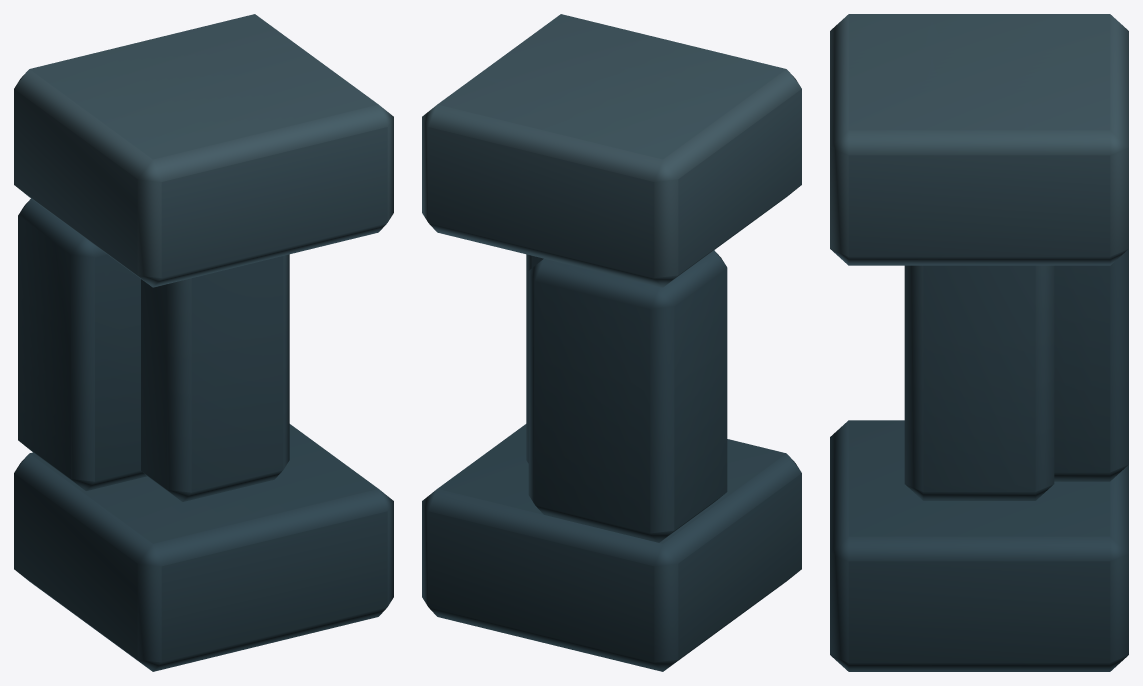
The model's file is wall_pannel_corner_hue_4.fbx.
3 renders of one model, left to right at view 1: azimuth 30°, elevation 25°; view 2: azimuth 150°, elevation 25°; view 3: azimuth 270°, elevation 25°, orthographic. The views are drawn at different scales.
Parts seen in each view (by area): view 1: wall_pannel_corner_hue_4; view 2: wall_pannel_corner_hue_4; view 3: wall_pannel_corner_hue_4.
Boxes of the visible parts, left/top/right/bottom form: wall_pannel_corner_hue_4: left=14, top=14, right=393, bottom=671; wall_pannel_corner_hue_4: left=422, top=14, right=801, bottom=671; wall_pannel_corner_hue_4: left=830, top=14, right=1128, bottom=671.
Size of the model in its own units: 52.34 by 100 by 50.
